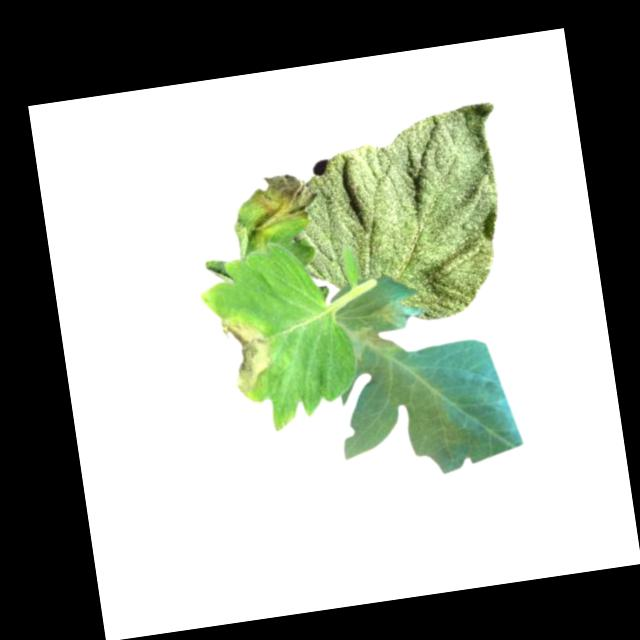Late_blight: (215, 314, 278, 396), (243, 169, 314, 234), (347, 319, 400, 360)
healthy: (281, 100, 522, 337)
